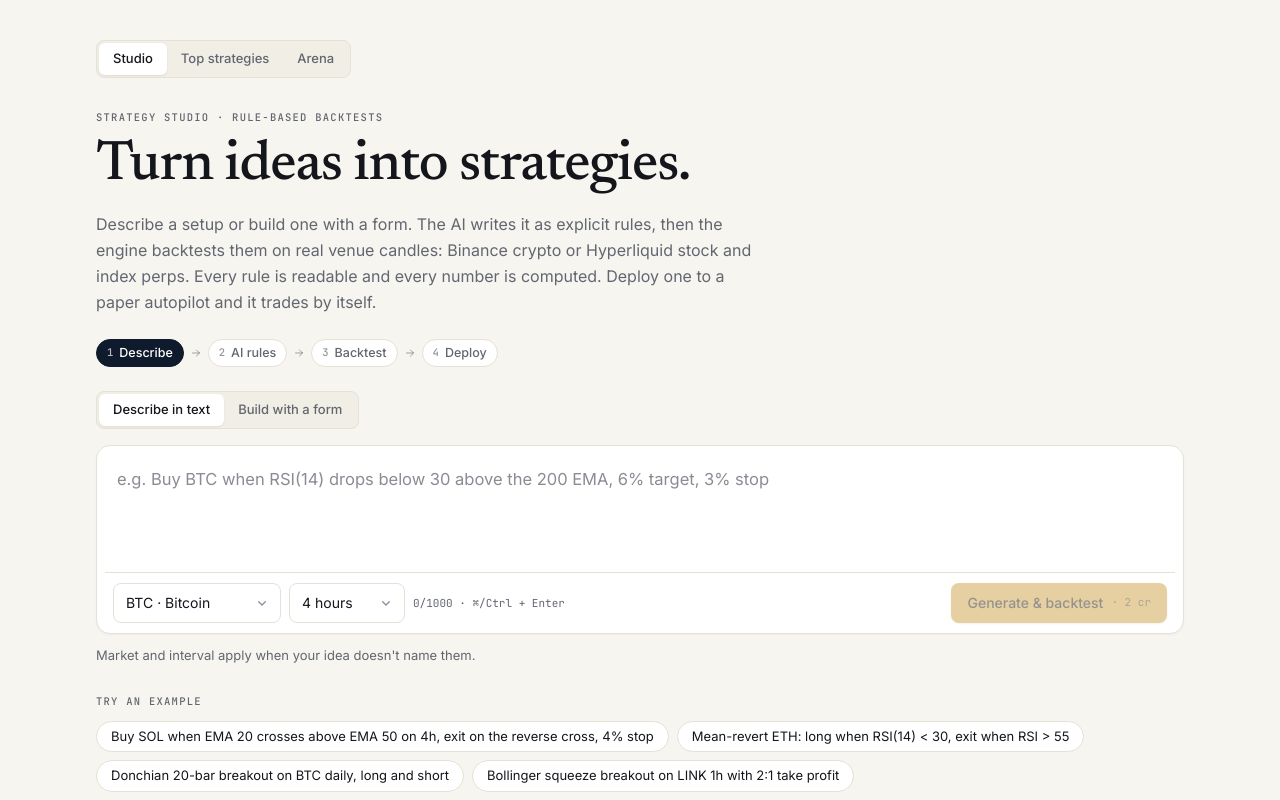
Test: StrategiesPage · studio › fills prompt, market and interval from an example
Click the button "Mean-revert ETH: long when RSI(14) < 30, exit when RSI > 55".
click(881, 737)  # box [677,721,1084,752]
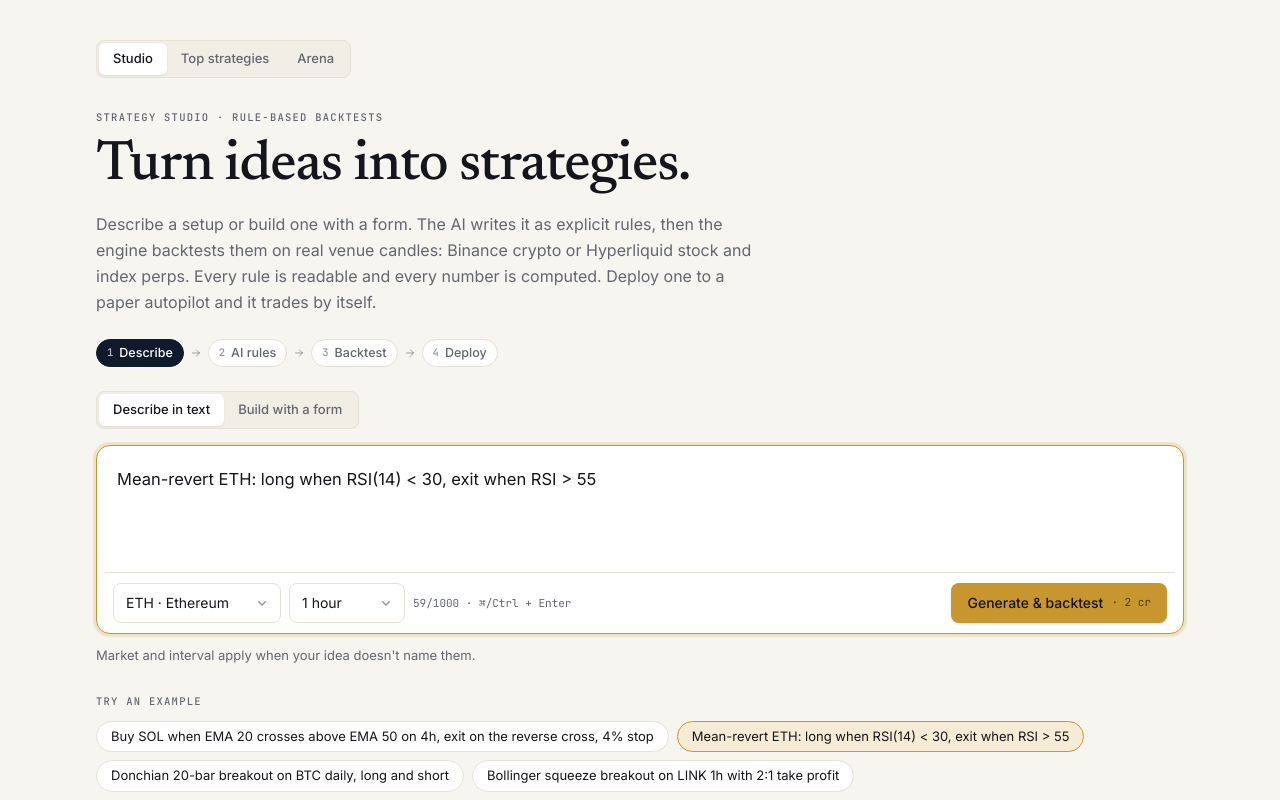
Check: the text box named "Describe your strategy" holds "Mean-revert ETH: long when RSI(14) < 30, exit when RSI > 55", box [105,454,1175,566]
Check: the dropdown named "Market" shows "ETH · Ethereum", box [113,583,281,623]
Check: the dropdown named "Interval" shows "1 hour", box [289,583,405,623]
